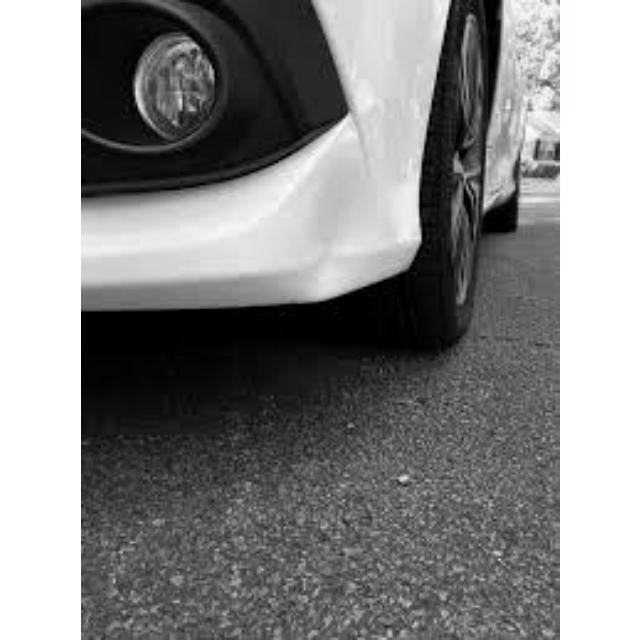front-bumper-dent: (80, 5, 460, 343)
